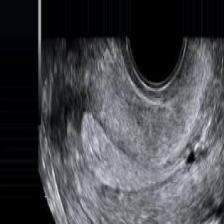no-pcos: (46, 42, 224, 224)
